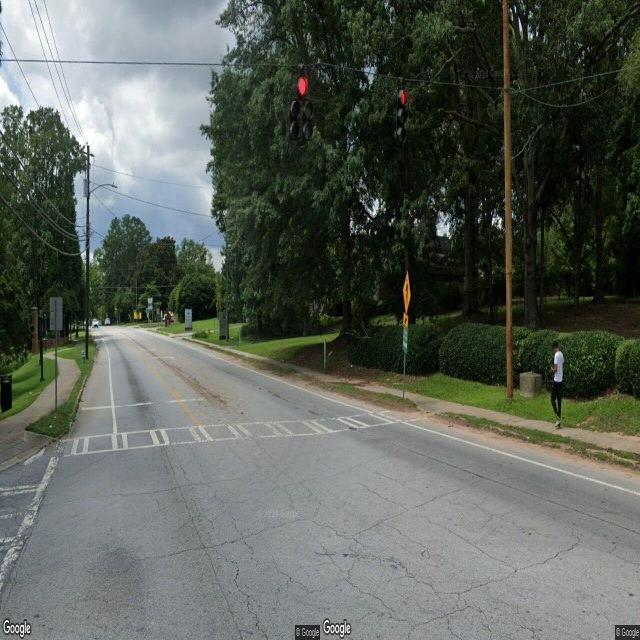trash_can: (0, 374, 12, 411)
